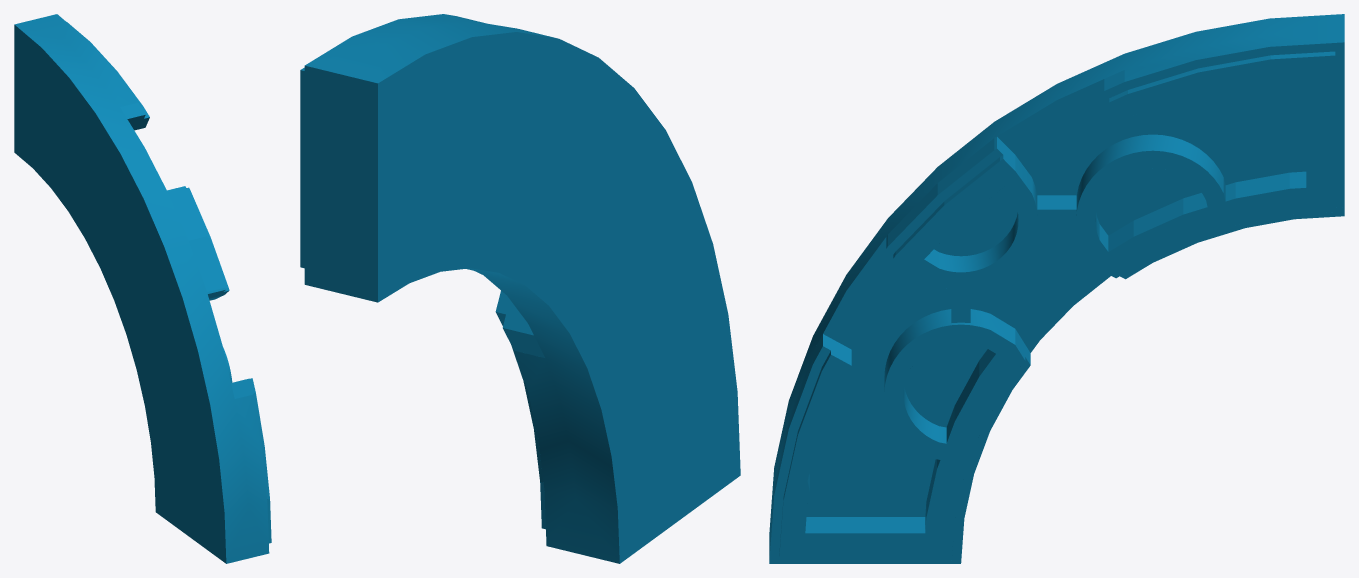
The model's file is tile_round_corner3*3_marcaroni_medium_azure.obj.
3 renders of one model, left to right at view 1: azimuth 30°, elevation 25°; view 2: azimuth 150°, elevation 25°; view 3: azimuth 270°, elevation 25°, orthographic. The views are drawn at different scales.
Size of the model in its own units: 8 by 60 by 60.
